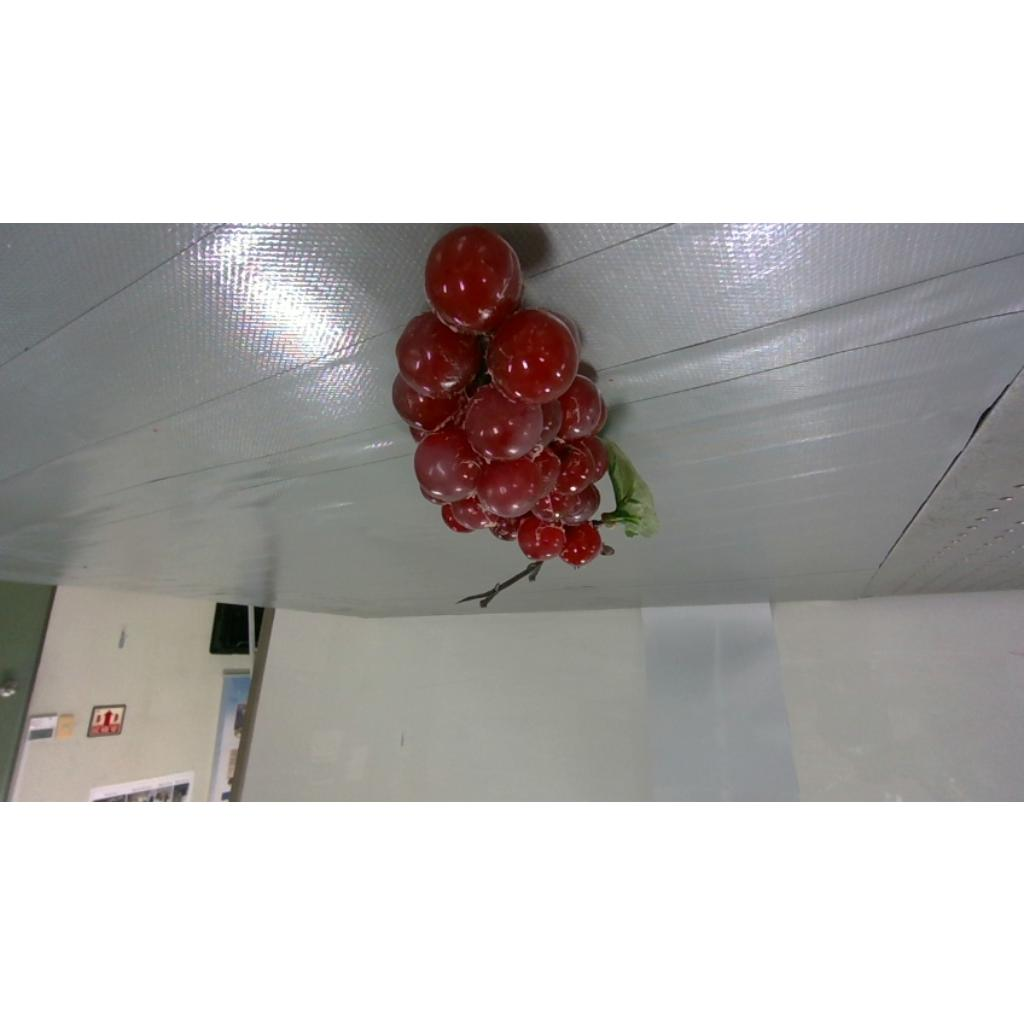grape: (392, 226, 660, 606)
